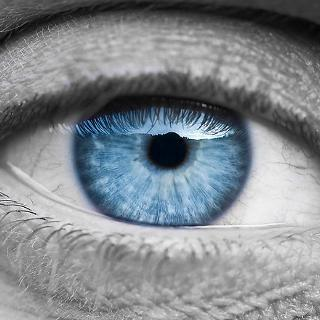pupil: (149, 130, 188, 169)
